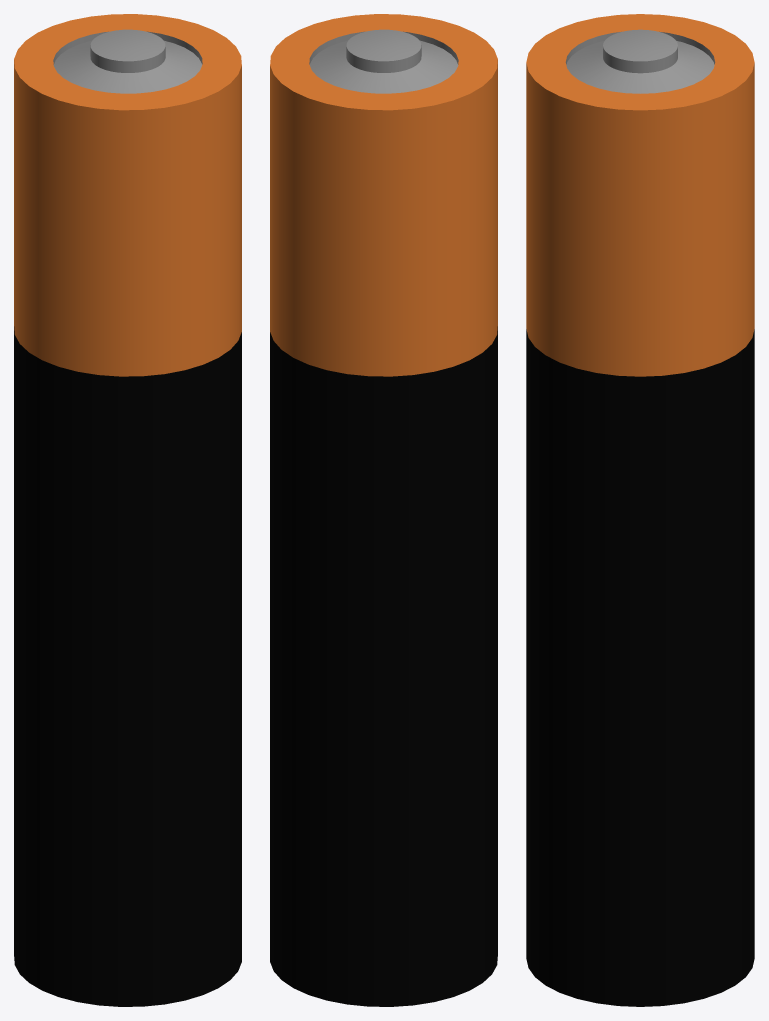
Rendered from nonRecyclable4.glb.
The picture shows the model from 3 angles, left to right: view 1: azimuth 30°, elevation 25°; view 2: azimuth 150°, elevation 25°; view 3: azimuth 270°, elevation 25°; orthographic projection.
Visible parts, largest first — view 1: Battery, Battery001, Battery002; view 2: Battery, Battery001, Battery002; view 3: Battery, Battery001, Battery002.
Part boxes in pixels (box(x1,y1,x2,y2)): Battery: box(14, 326, 241, 1006); Battery001: box(14, 14, 241, 376); Battery002: box(53, 29, 202, 93); Battery: box(270, 326, 497, 1006); Battery001: box(270, 14, 497, 376); Battery002: box(309, 29, 458, 93); Battery: box(526, 329, 754, 1006); Battery001: box(526, 14, 754, 376); Battery002: box(565, 29, 715, 93).
Size of the model in its own units: 0.2074 by 0.9179 by 0.2074.
